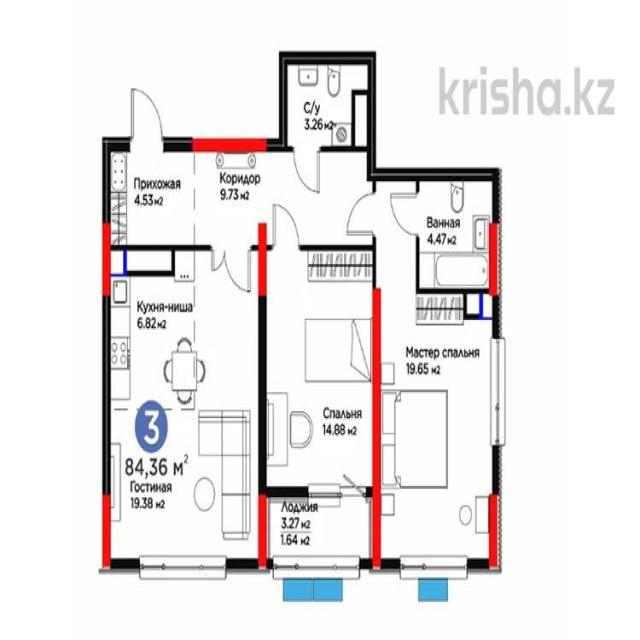balcony: (261, 489, 379, 572)
bathroom: (418, 169, 497, 292), (281, 52, 374, 154)
hallway: (103, 141, 419, 290)
kitchen: (103, 244, 263, 412)
living_room: (373, 288, 499, 565), (258, 242, 377, 492), (103, 411, 264, 571)
